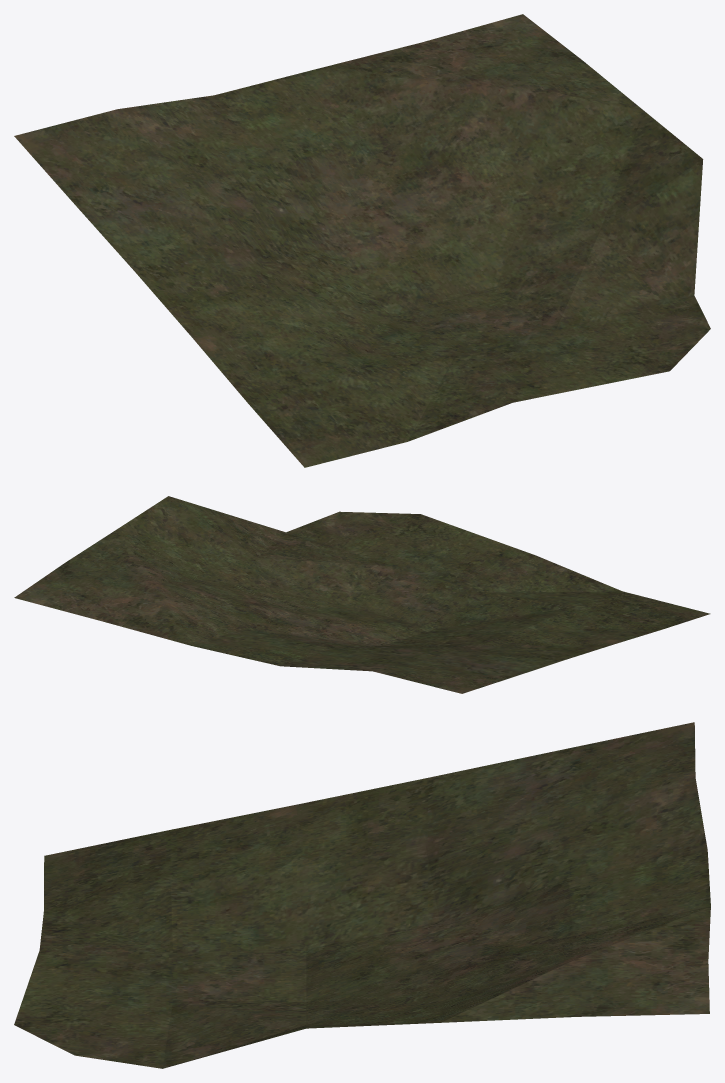
File: blend_weeds13.fbx
The picture shows the model from 3 angles, top to bottom: view 1: azimuth 30°, elevation 25°; view 2: azimuth 150°, elevation 25°; view 3: azimuth 270°, elevation 25°; orthographic projection. The views are drawn at different scales.
Parts seen in each view (by area): view 1: obj0.034; view 2: obj0.034; view 3: obj0.034.
Part boxes in pixels (x1,y1,x2,y2): obj0.034: (14, 14, 710, 467); obj0.034: (14, 496, 710, 693); obj0.034: (14, 722, 710, 1068).
Size of the model in its own units: 12.5 by 2.79 by 13.07.
